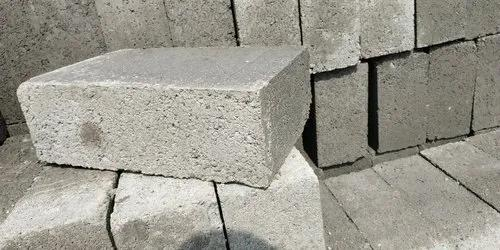brick: (19, 88, 265, 187), (223, 185, 325, 250), (316, 64, 369, 169), (111, 205, 226, 250), (377, 53, 427, 155), (427, 42, 474, 142), (300, 0, 359, 74), (97, 0, 164, 53), (165, 0, 233, 51), (0, 221, 111, 250), (360, 0, 414, 59), (235, 0, 300, 48), (471, 34, 500, 134), (416, 0, 466, 49), (465, 1, 500, 40)
